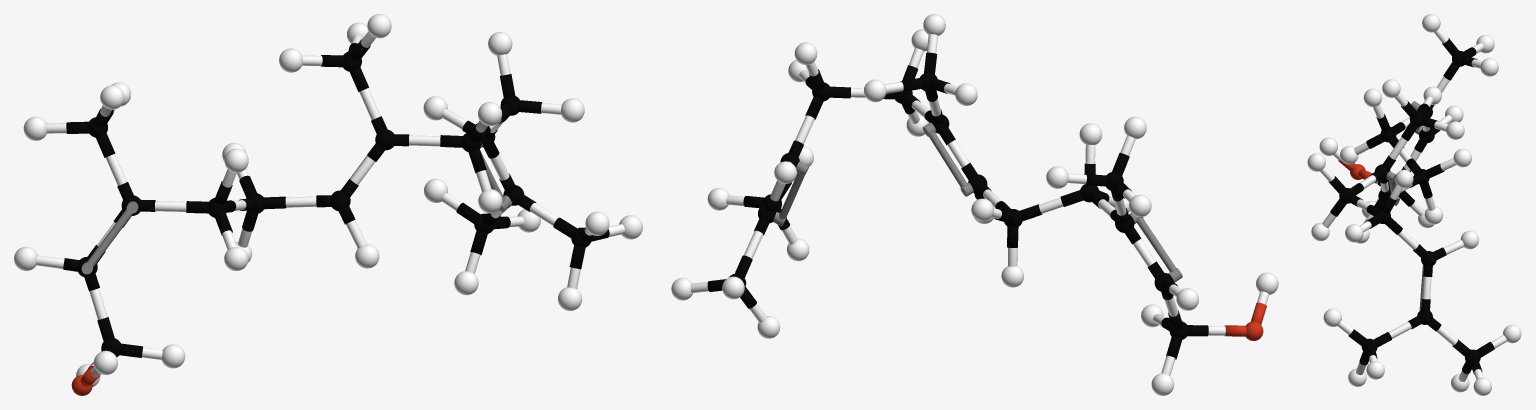
The model's file is acide.dae.
3 views of the same model, side by side, from view 1: azimuth 30°, elevation 25°; view 2: azimuth 150°, elevation 25°; view 3: azimuth 270°, elevation 25° (orthographic). The views are drawn at different scales.
Parts seen in each view (by area): view 1: Liaison_double_002; view 2: Liaison_double, Liaison_double_002, Liaison_double_001; view 3: Hydrogène_003, Hydrogène_009, Hydrogène_022, Hydrogène_002, Hydrogène_004, Hydrogène_007, Hydrogène_025, Hydrogène_8, Hydrogène_006, Hydrogène_000, Hydrogène_012, Hydrogène_001 (+11 smaller).
Boxes of the visible parts, <box> form: Liaison_double_002: <box>81,201,138,274</box>; Liaison_double: <box>922,122,973,196</box>; Liaison_double_002: <box>1129,213,1182,282</box>; Liaison_double_001: <box>773,161,809,226</box>; Hydrogène_003: <box>1446,121,1464,139</box>; Hydrogène_009: <box>1395,169,1413,188</box>; Hydrogène_022: <box>1480,58,1498,76</box>; Hydrogène_002: <box>1382,79,1400,97</box>; Hydrogène_004: <box>1453,148,1471,167</box>; Hydrogène_007: <box>1345,224,1363,242</box>; Hydrogène_025: <box>1366,361,1384,379</box>; Hydrogène_8: <box>1307,153,1325,171</box>; Hydrogène_006: <box>1319,137,1337,155</box>; Hydrogène_000: <box>1363,88,1382,106</box>; Hydrogène_012: <box>1473,377,1491,395</box>; Hydrogène_001: <box>1422,14,1440,32</box>.
Size of the model in its own units: 11.82 by 4.96 by 6.71.
